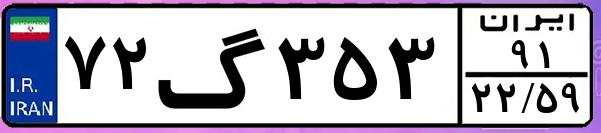1: (537, 27, 568, 80)
2: (110, 28, 156, 98), (470, 70, 495, 125), (495, 70, 520, 125)
3: (270, 28, 330, 110), (385, 28, 445, 110)
5: (330, 28, 385, 110), (535, 70, 560, 125)
7: (57, 26, 110, 100)
9: (560, 70, 590, 125), (508, 27, 537, 80)
گ: (156, 12, 270, 120)
